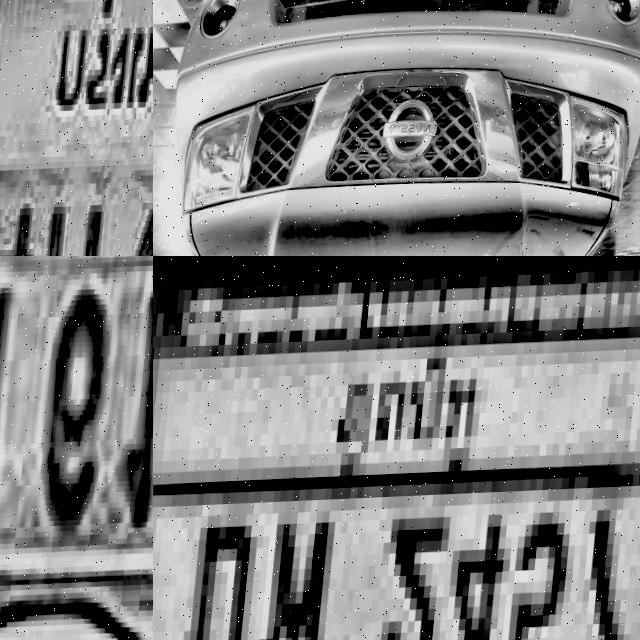license-plate: (153, 256, 640, 640), (0, 256, 153, 607), (0, 0, 153, 256)
